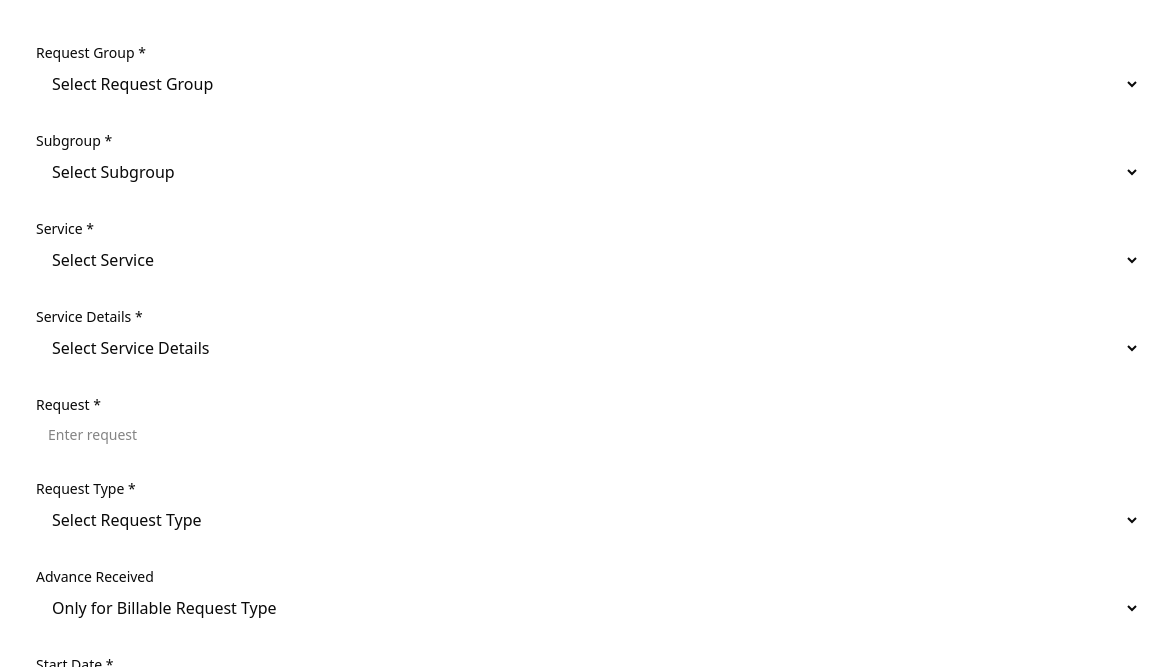
Test: AddNewRequestContent › Reset Button › resets form to initial state
In the field labelled "Request *": (588, 434) top-left (36, 416), bottom-right (1140, 452), type "Test Request"
(page scrolled)
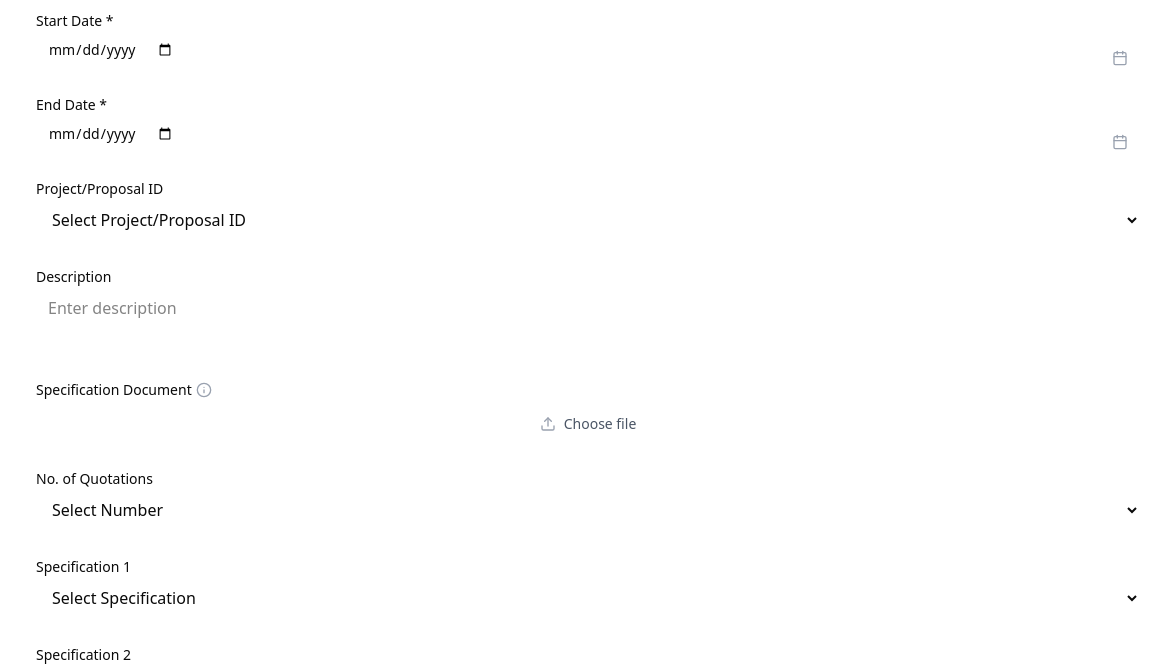
In the text box labelled "Description": (588, 320) top-left (36, 288), bottom-right (1140, 352), type "Test Description"
(page scrolled)
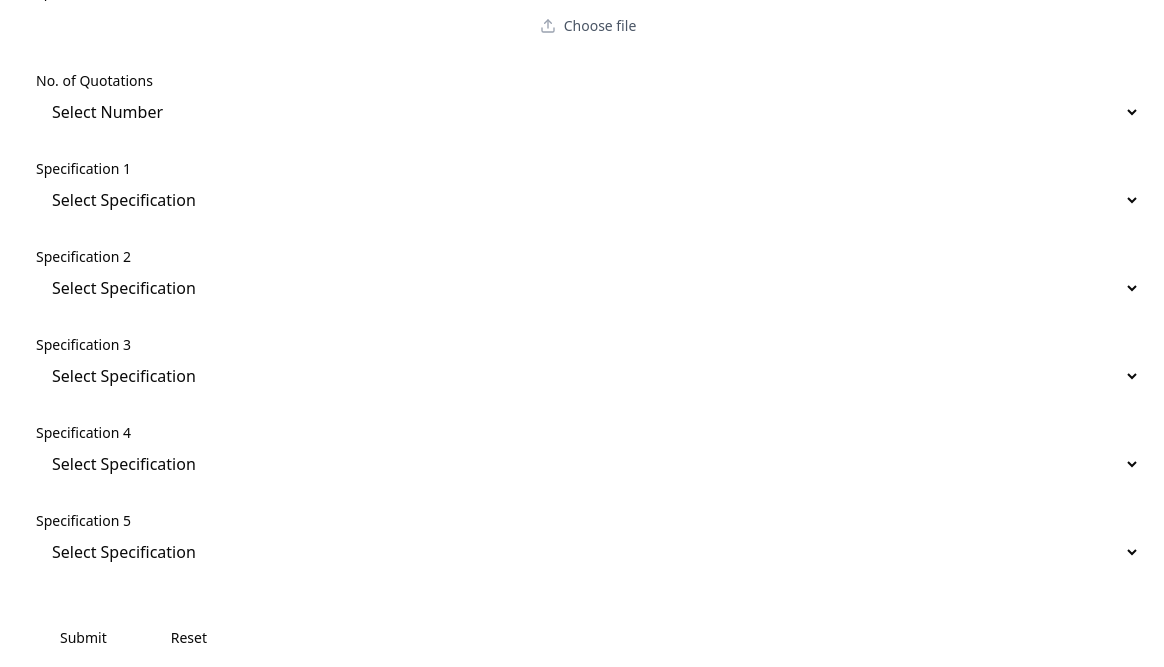
// Click reset button
Click the button "Reset": (189, 638) top-left (147, 620), bottom-right (231, 656)
(page scrolled)
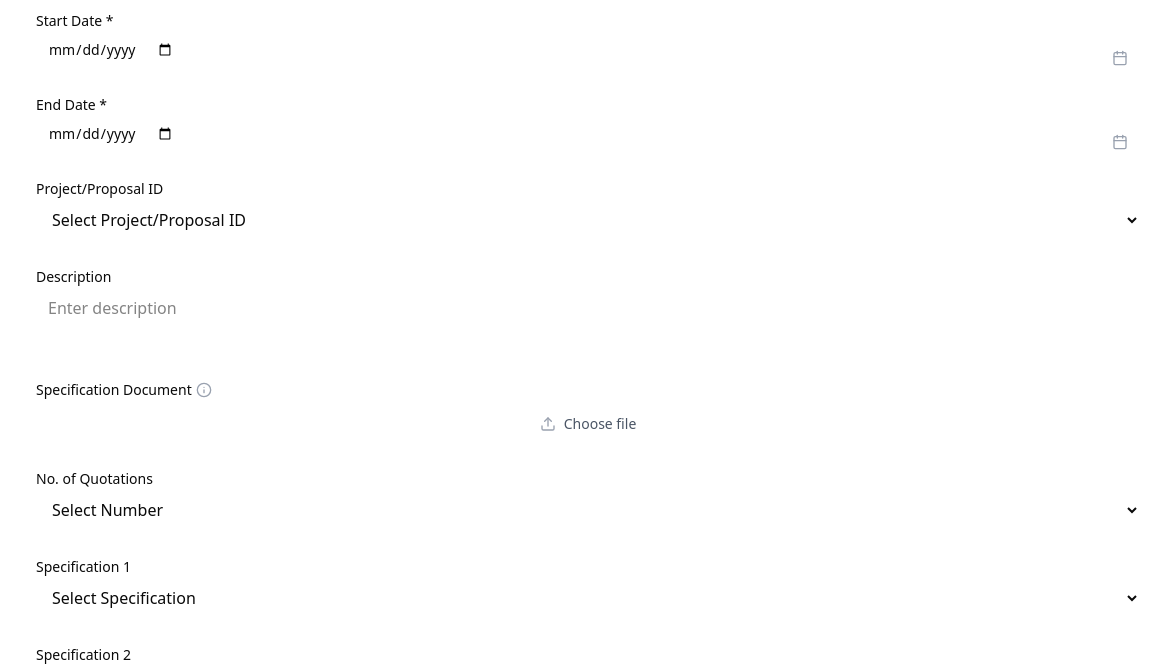
Expected: the text box labelled "Description" is empty, top-left (36, 288), bottom-right (1140, 352)
